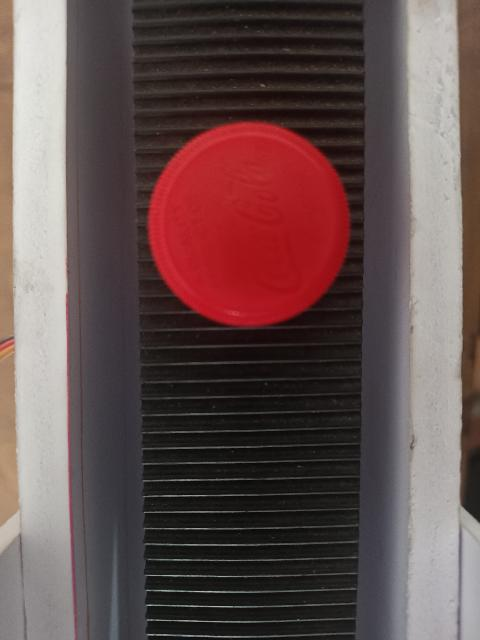bottlecap: (149, 116, 354, 330)
